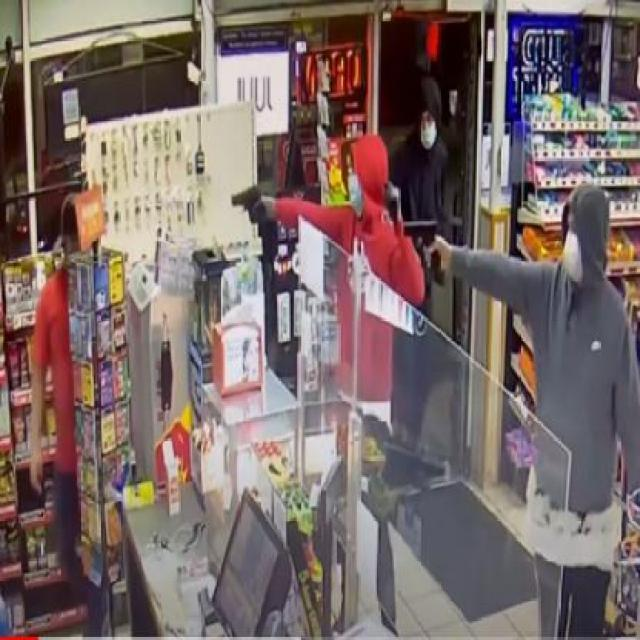weapon: (402, 216, 449, 276), (230, 183, 270, 226)
